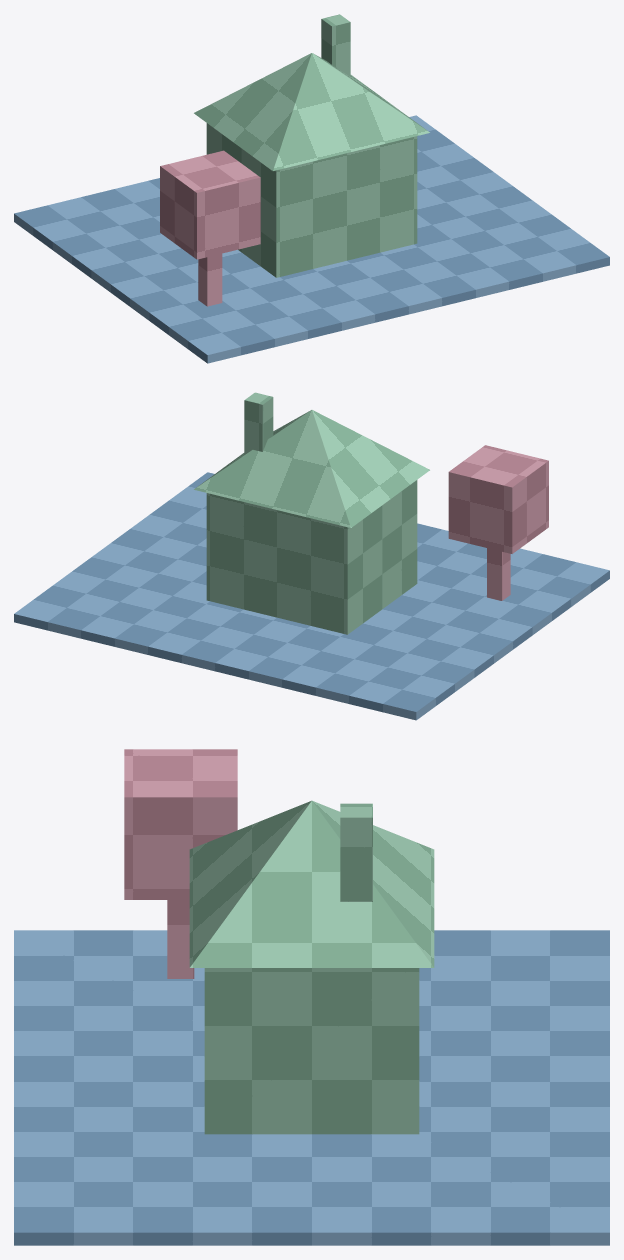
The model's file is result.glb.
3 views of the same model, one above another, from view 1: azimuth 30°, elevation 25°; view 2: azimuth 150°, elevation 25°; view 3: azimuth 270°, elevation 25° (orthographic). The views are drawn at different scales.
Parts seen in each view (by area): view 1: House12_Ground, House12_Main_Block, House12_Pyramid_Roof, House12_Tree_Canopy, House12_Chimney, House12_Tree_Trunk; view 2: House12_Ground, House12_Main_Block, House12_Pyramid_Roof, House12_Tree_Canopy, House12_Chimney, House12_Tree_Trunk; view 3: House12_Ground, House12_Main_Block, House12_Pyramid_Roof, House12_Tree_Canopy, House12_Chimney, House12_Tree_Trunk.
Part boxes in pixels (box(x1,y1,x2,y2)): House12_Ground: box(14, 115, 609, 363); House12_Main_Block: box(206, 123, 417, 277); House12_Pyramid_Roof: box(194, 53, 429, 170); House12_Tree_Canopy: box(160, 150, 260, 259); House12_Chimney: box(321, 14, 350, 76); House12_Tree_Trunk: box(198, 253, 222, 306); House12_Ground: box(14, 472, 609, 720); House12_Main_Block: box(206, 480, 417, 634); House12_Pyramid_Roof: box(194, 410, 429, 527); House12_Tree_Canopy: box(448, 445, 548, 553); House12_Chimney: box(244, 392, 273, 454); House12_Tree_Trunk: box(487, 548, 510, 600); House12_Ground: box(14, 930, 609, 1245); House12_Main_Block: box(204, 968, 419, 1134); House12_Pyramid_Roof: box(189, 800, 434, 967); House12_Tree_Canopy: box(124, 749, 237, 899); House12_Chimney: box(340, 803, 372, 901); House12_Tree_Trunk: box(167, 900, 194, 978).
Bounding box in the file's own units: 12 × 5.79 × 10.
3 materials, 3 textured.
